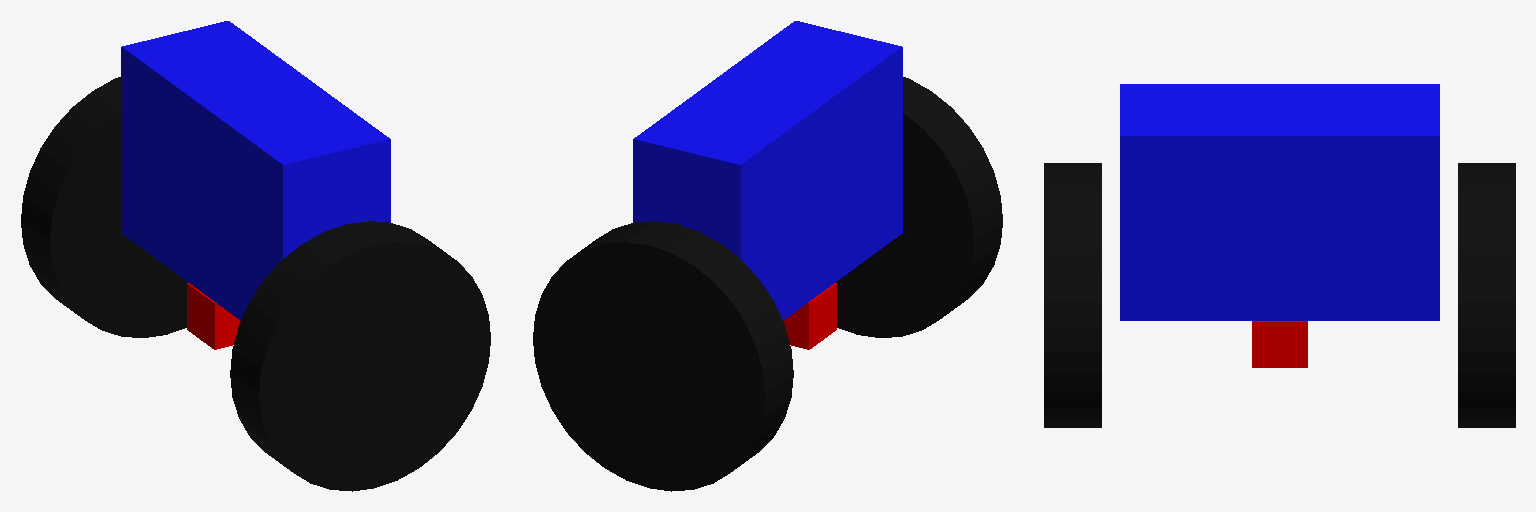
robot.urdf — balancebot_bigwheel:
<?xml version="1.0"?>
<robot name="balancebot_bigwheel">
<link name="base_link">
    <visual>
        <origin xyz="0 0 0.05" rpy="0 0 0"/>
        <geometry>
            <!-- depth(X)=0.06  width(Y)=0.157  height(Z)=0.10 -->
            <box size="0.06 0.157 0.10"/>
        </geometry>
        <material name="blue">
            <color rgba="0.1 0.1 1.0 1.0"/>
        </material>
    </visual>
    <collision>
        <origin xyz="0 0 0.05" rpy="0 0 0"/>
        <geometry>
           <box size="0.06 0.157 0.10"/>
        </geometry>
    </collision>
    <inertial>
        <origin xyz="0 0 0.05" rpy="0 0 0"/>
        <!--
        Inertia for box: depth(X)=0.06, width(Y)=0.157, height(Z)=0.10, mass=0.626kg
        ixx = m/12 * (Y² + Z²) = 0.626/12 * (0.157² + 0.10²) = 0.001808
        iyy = m/12 * (X² + Z²) = 0.626/12 * (0.06²  + 0.10²) = 0.000709
        izz = m/12 * (X² + Y²) = 0.626/12 * (0.06²  + 0.157²)= 0.001474
        -->
        <mass value="0.626"/>
        <inertia ixx="0.001808" ixy="0.0"
                 iyy="0.000709" iyz="0.0"
                 izz="0.001474"/>
    </inertial>
</link>

<!-- ═══════════════════════════════════════════════════════════
Battery Link 3s 1100mAh Li-ion
═══════════════════════════════════════════════════════════ -->
<link name="battery_link">
    <visual>
        <origin xyz="0 0 0" rpy="0 0 0"/>
        <geometry>
            <!-- 62mm x 27mm x 25mm -->
            <box size="0.062 0.027 0.025"/>
        </geometry>
        <material name="red">
            <color rgba="1.0 0.0 0.0 1.0"/>
        </material>
    </visual>
    <collision>
        <origin xyz="0 0 0" rpy="0 0 0"/>
        <geometry>
            <box size="0.062 0.027 0.025"/>
        </geometry>
    </collision>
    <inertial>
        <origin xyz="0 0 0" rpy="0 0 0"/>
        <!--
        X = 0.062 m
        Y = 0.027 m
        Z = 0.025 m
        Mass = 0.073 kg

        Ixx = m/12 * (Y² + Z²) = 0.00000825
        Iyy = m/12 * (X² + Z²) = 0.00002725
        Izz = m/12 * (X² + Y²) = 0.00002788
        -->
        <mass value="0.073"/>
        <inertia ixx="0.00000825"
                 ixy="0.0"
                 ixz="0.0"
                 iyy="0.00002725"
                 iyz="0.0"
                 izz="0.00002788"/>
        </inertial>
</link>

<joint name="battery_joint" type="fixed">
    <parent link="base_link"/>
    <child link="battery_link"/>
    <!-- centered in X/Y, near top of body -->
    <origin xyz="0 0 -0.0125" rpy="0 0 0"/>
</joint>

<!-- ═══════════════════════════════════════════════════════════
IMU Link (MPU6050)
Mounted at TOP of body frame, perfectly centred
Fixed joint — does not move relative to body
Mass included so CoM calculation is accurate
═══════════════════════════════════════════════════════════ -->

<link name="imu_link">
    <visual>
        <origin xyz="0 0 0" rpy="0 0 0"/>
        <geometry>
            <!-- MPU6050 physical size: 20mm × 16mm × 1.5mm -->
            <box size ="0.02 0.016 0.0015"/>
        </geometry>
        <material name="green">
            <color rgba="0.0 0.8 0.2 1.0"/>
        </material>
    </visual>
    <collision>
        <origin xyz="0 0 0" rpy="0 0 0"/>
        <geometry>
            <box size ="0.02 0.016 0.0015"/>
        </geometry>
    </collision>
    <inertial>
        <origin xyz="0 0 0" rpy="0 0 0"/>
        <!-- MPU6050 weighs approximately 1g = 0.001kg -->
        <mass value="0.001"/>
        <inertia ixx="0.000001" ixy="0.0"
                 iyy="0.000001" iyz="0.0"
                 izz="0.000001"/>
    </inertial>
</link>

  <!-- Fixed joint — IMU rigidly attached at top of body, centred -->
<joint name="imu_joint" type="fixed">
    <parent link="base_link"/>
    <child link="imu_link"/>
    <!--
      Top of body = 0.00075 above axle, centred in X and Y
    -->
    <origin xyz="0 0 0.00075" rpy="0 0 0"/>
</joint>    

  <!-- ═══════════════════════════════════════════════════════════
       LEFT WHEEL
       y offset = -wheelbase/2 = -0.1015m from centre
  ═══════════════════════════════════════════════════════════ -->

<link name="left_wheel">
    <visual>
        <origin xyz="0 0 0" rpy="1.5707963 0 0"/>
        <geometry>
        <cylinder radius="0.065" length="0.028"/>
        </geometry>
        <material name="black">
            <color rgba="0.1 0.1 0.1 1.0"/>
        </material>
    </visual>
    <collision>
      <origin xyz="0 0 0" rpy="1.5707963 0 0"/>
      <geometry>
        <cylinder radius="0.065" length="0.028"/>
      </geometry>
    </collision>
    <inertial>
      <origin xyz="0 0 0" rpy="1.5707963 0 0"/>
      <mass value="0.153"/>
      <!--
        Inertia for cylinder: radius=0.065, length=0.028, mass=0.1kg
        ixx=iyy = m/12 * (3r² + l²) = 0.153/12 * (3×0.065² + 0.028²) = 0.0001716
        izz     = m/2  * r²         = 0.153/2  * 0.065²               = 0.000323
      -->
      <inertia ixx="0.0001716" ixy="0.0" ixz="0.0"
               iyy="0.0001716" iyz="0.0"
               izz="0.000323"/>
    </inertial>
</link>

  <joint name="left_wheel_joint" type="continuous">
    <parent link="base_link"/>
    <child link="left_wheel"/>
    <!--
      y length = 0.15m + gap (2.3cm) + gap (2.3cm) = 0.203m
      y = -wheelbase/2 = -(0.203/2) = -0.1015m
      Wheelbase derivation: box_half(7.85cm) + gap(2.3cm) = 10.15cm
    -->
    <origin xyz="0 -0.1015 0" rpy="0 0 0"/>
    <axis xyz="0 1 0"/>
    <dynamics damping="0.01" friction="0.01"/>
  </joint>
  

    <!-- ═══════════════════════════════════════════════════════════
       RIGHT WHEEL
       y offset = +wheelbase/2 = +0.1015m from centre
  ═══════════════════════════════════════════════════════════ -->
  <link name="right_wheel">
    <visual>
      <origin xyz="0 0 0" rpy="1.5707963 0 0"/>
      <geometry>
        <cylinder radius="0.065" length="0.028"/>
      </geometry>
      <material name="black">
        <color rgba="0.1 0.1 0.1 1.0"/>
      </material>
    </visual>
    <collision>
      <origin xyz="0 0 0" rpy="1.5707963 0 0"/>
      <geometry>
        <cylinder radius="0.065" length="0.028"/>
      </geometry>
    </collision>
    <inertial>
      <origin xyz="0 0 0" rpy="1.5707963 0 0"/>
      <mass value="0.153"/>
      <!--
        Inertia for cylinder: radius=0.065, length=0.028, mass=0.1kg
        ixx=iyy = m/12 * (3r² + l²) = 0.153/12 * (3×0.065² + 0.028²) = 0.0001716
        izz     = m/2  * r²         = 0.153/2  * 0.065²               = 0.000323
      -->
      <inertia ixx="0.0001716" ixy="0.0" ixz="0.0"
               iyy="0.0001716" iyz="0.0"
               izz="0.000323"/>
      </inertial>
  </link>

    <joint name="right_wheel_joint" type="continuous">
    <parent link="base_link"/>
    <child link="right_wheel"/>
    <!--
      y = +wheelbase/2 = +(0.203/2) = +0.1015m
    -->
    <origin xyz="0 0.1015 0" rpy="0 0 0"/>
    <axis xyz="0 1 0"/>
    <dynamics damping="0.01" friction="0.01"/>
  </joint>

</robot>

--- Render facts (derived) ---
The picture shows the robot from 3 angles, left to right: view 1: azimuth 30°, elevation 25°; view 2: azimuth 150°, elevation 25°; view 3: azimuth 270°, elevation 25°; orthographic projection.
Model balancebot_bigwheel with 5 links and 4 joints (2 continuous, 2 fixed), rooted at base_link, posed every joint at zero.
Links seen in each view (by area): view 1: base_link, left_wheel, right_wheel, battery_link; view 2: base_link, right_wheel, left_wheel, battery_link; view 3: base_link, left_wheel, right_wheel, battery_link.
Link boxes in pixels (<box>): base_link: <box>121,21,390,320</box>; left_wheel: <box>230,221,490,491</box>; right_wheel: <box>21,77,187,337</box>; battery_link: <box>187,283,240,349</box>; base_link: <box>633,21,902,320</box>; right_wheel: <box>533,221,793,491</box>; left_wheel: <box>836,77,1002,337</box>; battery_link: <box>783,283,836,349</box>; base_link: <box>1120,84,1439,320</box>; left_wheel: <box>1044,163,1101,427</box>; right_wheel: <box>1458,163,1515,427</box>; battery_link: <box>1252,321,1307,367</box>.
Size in the robot's own frame: 0.13 by 0.231 by 0.165 metres.
Geometry: primitives only (box / cylinder / sphere), no mesh files.
